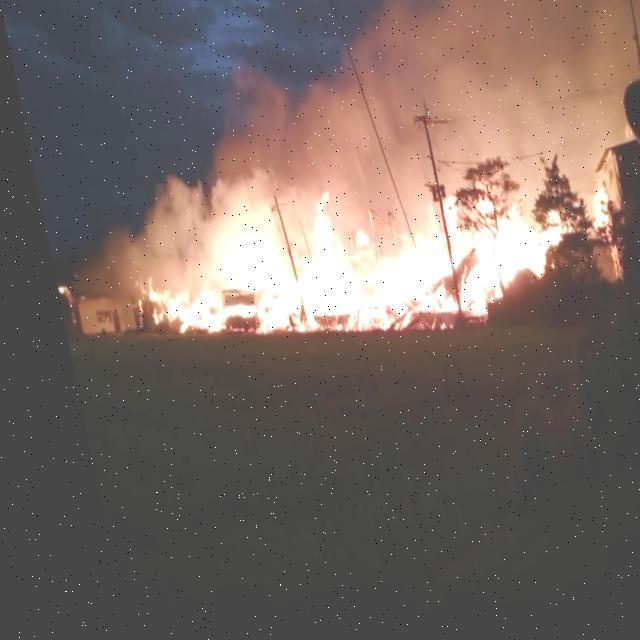Fire: (109, 185, 572, 353), (575, 195, 607, 241), (46, 283, 58, 296)
